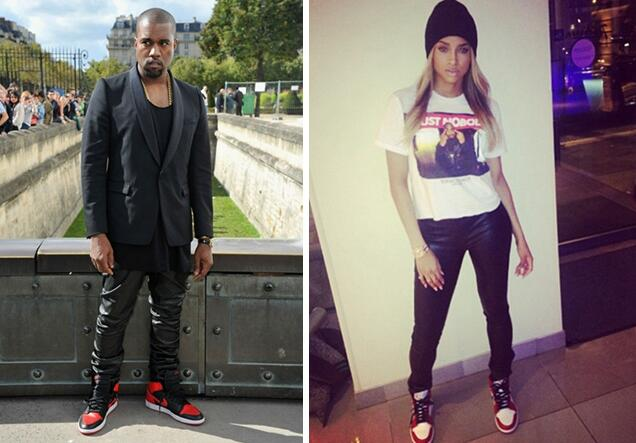Air Jordan 1 Bred: (143, 369, 215, 432), (74, 367, 130, 435)
